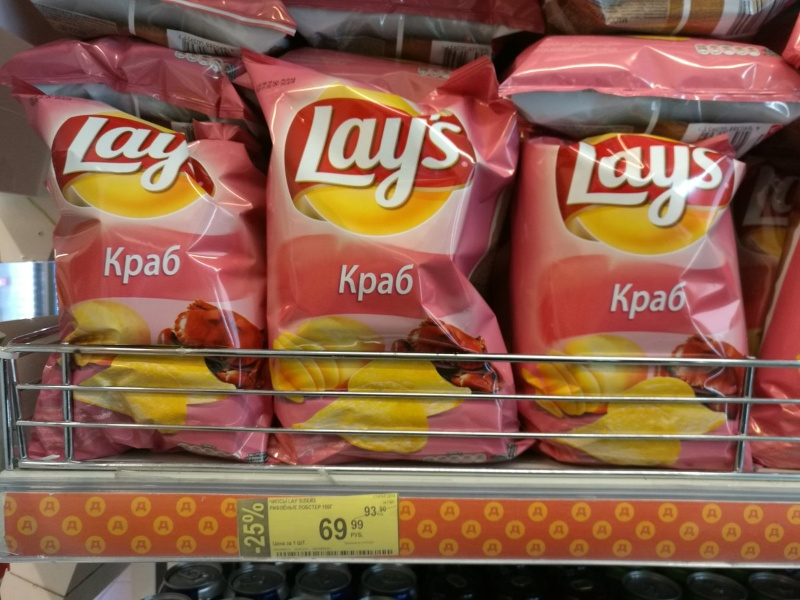chips: (219, 43, 553, 498), (6, 75, 291, 479), (489, 111, 773, 499)
